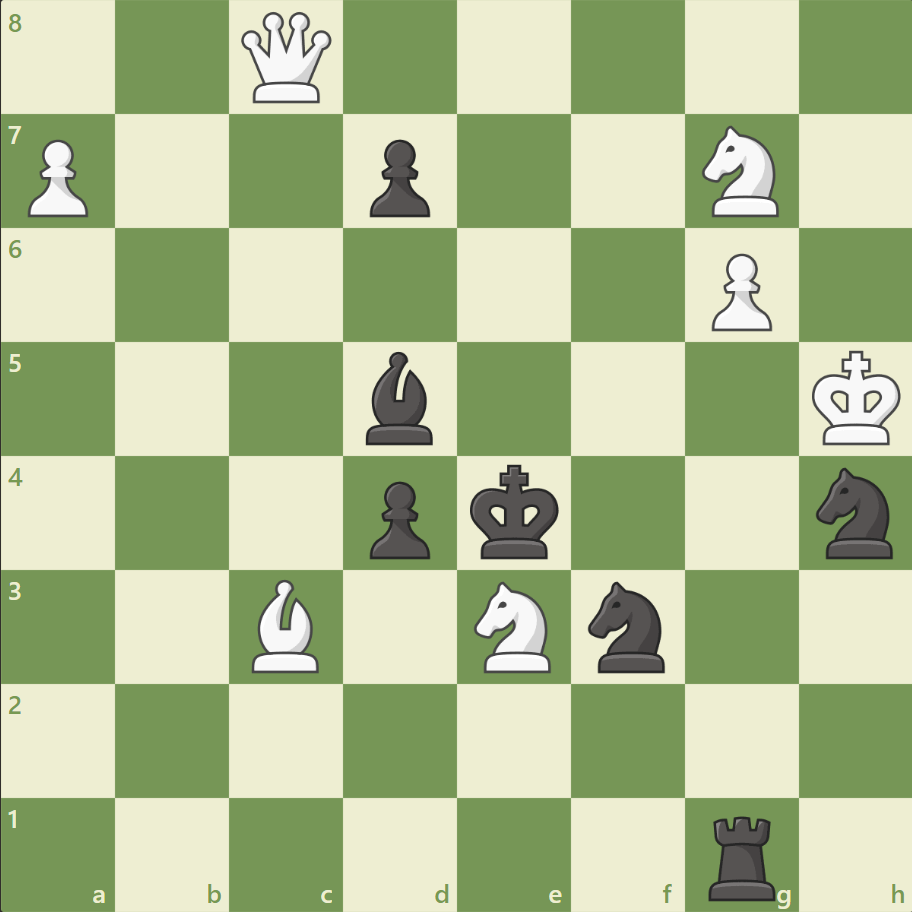B: (244, 574, 328, 676)
K: (806, 344, 906, 452)
N: (692, 121, 789, 223), (465, 575, 562, 677)
P: (20, 132, 95, 223), (701, 246, 776, 337)
Q: (237, 9, 336, 108)
b: (358, 347, 442, 449)
k: (465, 458, 565, 566)
n: (806, 461, 903, 564), (579, 575, 676, 677)
p: (361, 132, 435, 223), (361, 473, 435, 564)
r: (700, 806, 783, 904)
